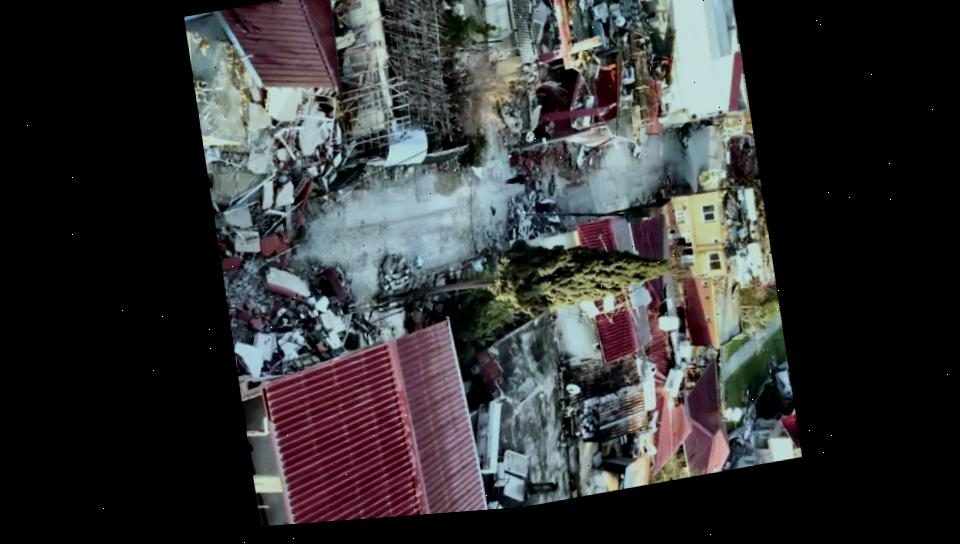kapali: (207, 164, 458, 353), (480, 144, 623, 246)
